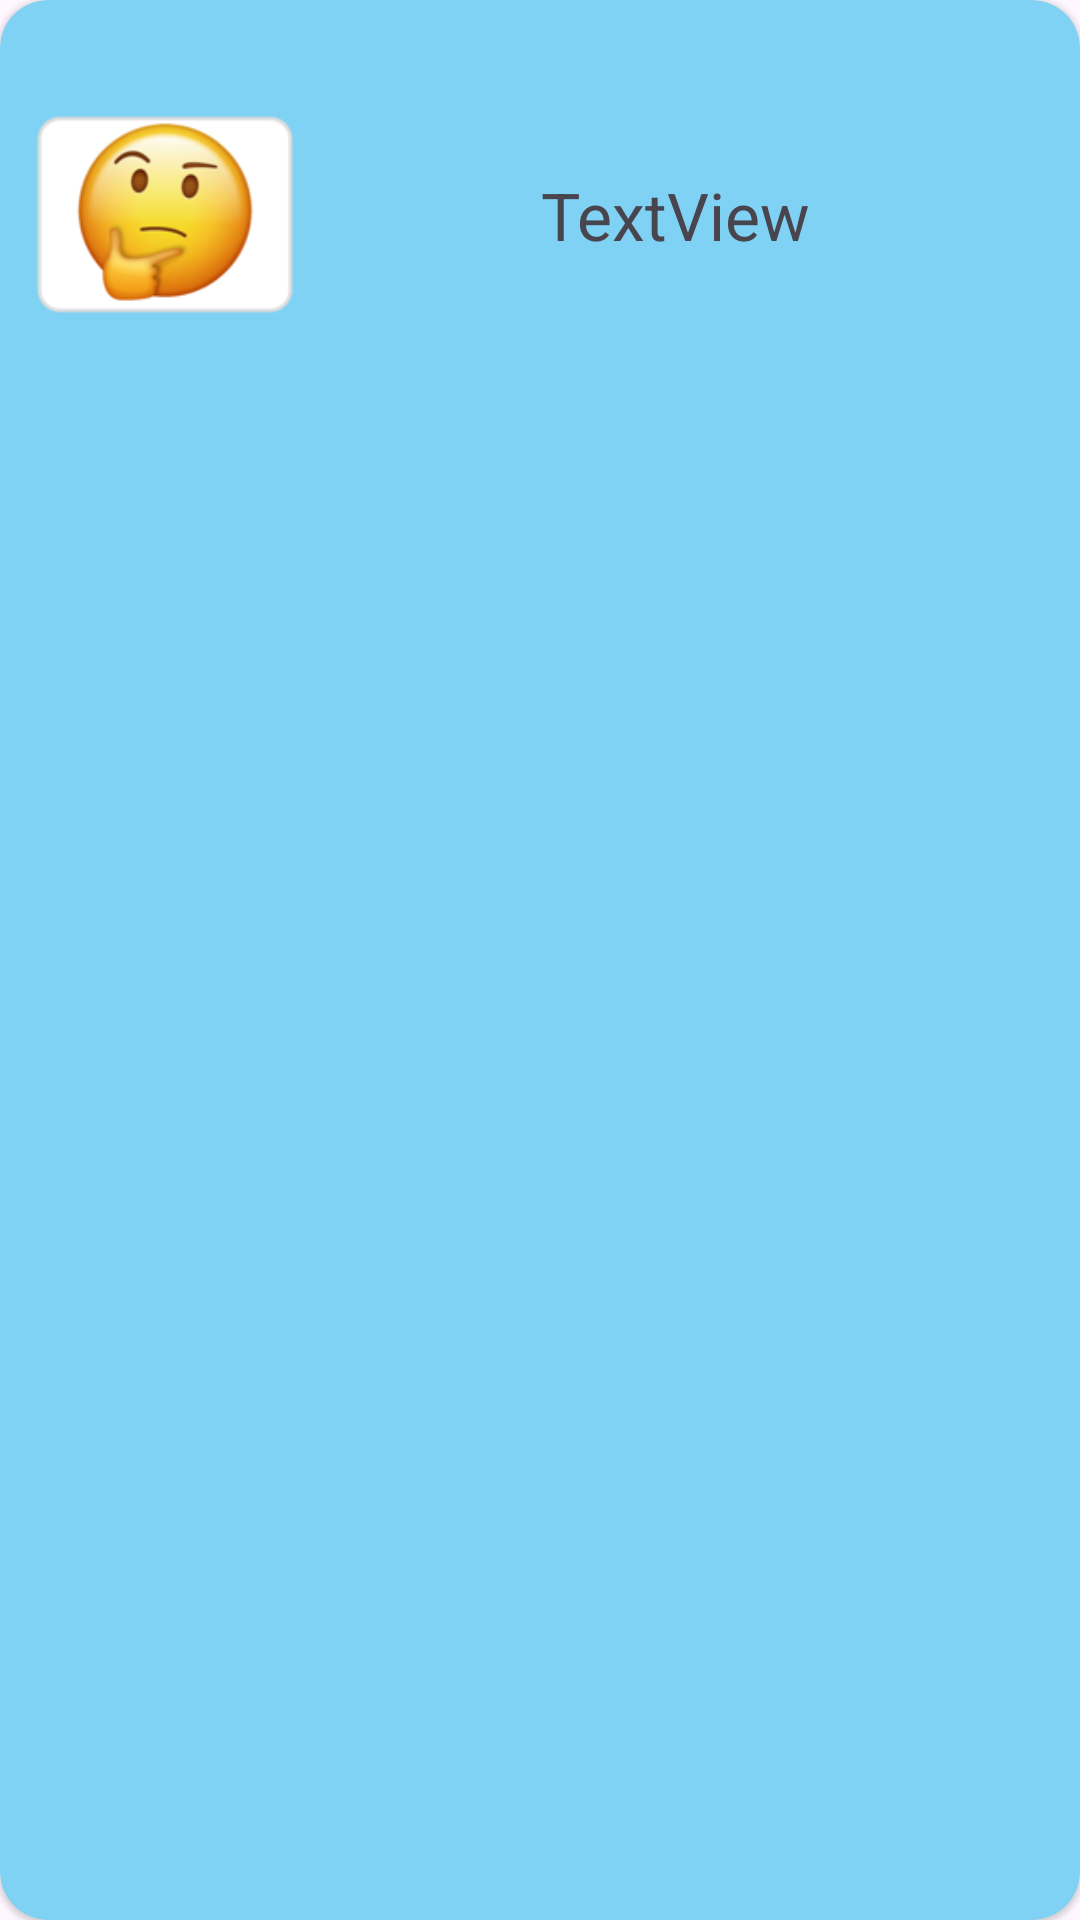

Icons on this 1080px x 1920px Android screen, each with its box as (x1, y1, x2, y2):
emoji: (37, 116, 293, 313)
